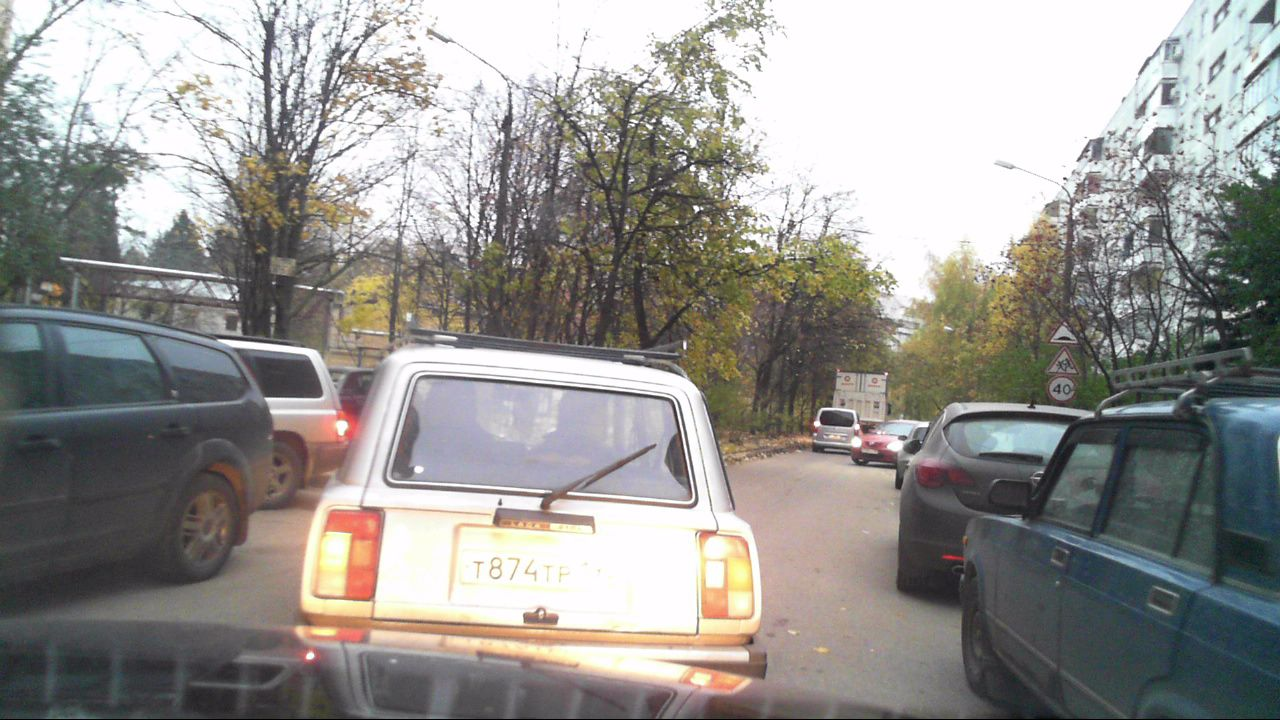speed_warning_40: (1047, 376, 1076, 402)
